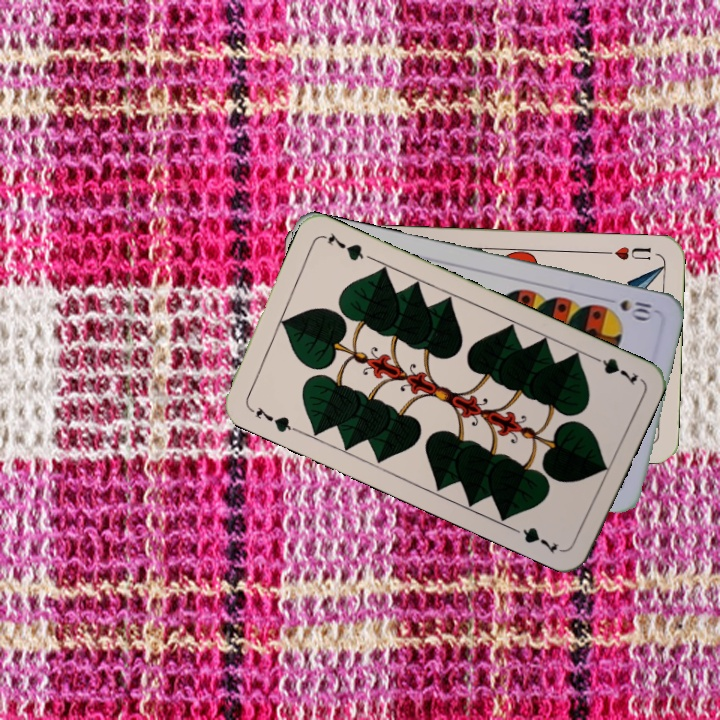G7: (586, 351, 641, 388), (244, 402, 300, 435)
HU: (600, 243, 654, 263)
S10: (615, 295, 658, 322)
